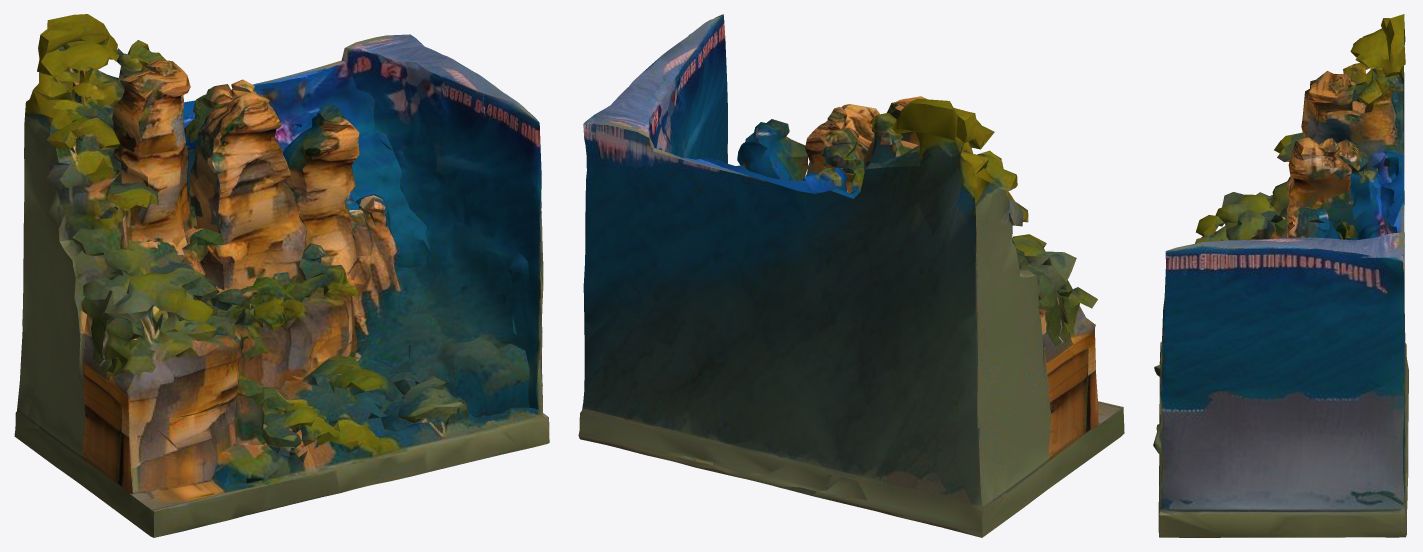
Rendered from three-sisters-blue-mountains.glb.
3 renders of one model, left to right at view 1: azimuth 30°, elevation 25°; view 2: azimuth 150°, elevation 25°; view 3: azimuth 270°, elevation 25°, orthographic. The views are drawn at different scales.
Parts seen in each view (by area): view 1: logan-textured.obj; view 2: logan-textured.obj; view 3: logan-textured.obj.
Part boxes in pixels (x1,y1,x2,y2): logan-textured.obj: (14, 14, 549, 537); logan-textured.obj: (578, 14, 1124, 537); logan-textured.obj: (1153, 14, 1408, 537).
Size of the model in its own units: 1 by 0.9934 by 0.6291.
1 material, 1 textured.
